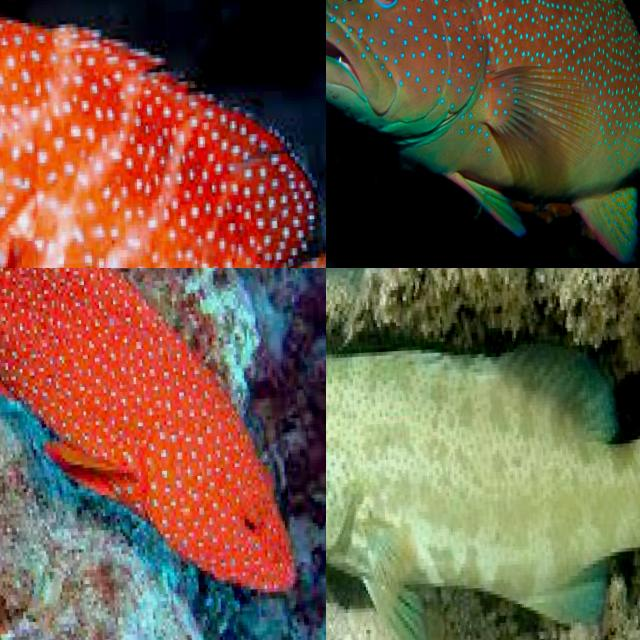Leopard coral grouper: (326, 268, 640, 640), (0, 268, 305, 631), (0, 0, 326, 268), (326, 0, 640, 268)
